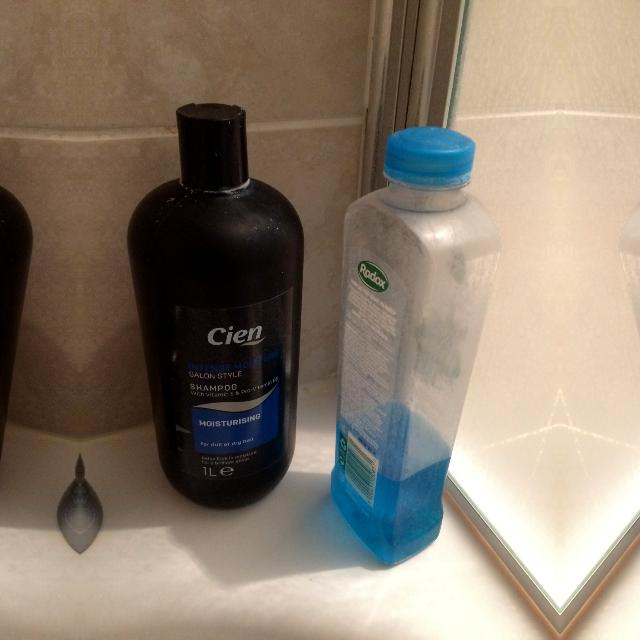Plastic: (324, 121, 506, 574), (120, 95, 312, 515)
